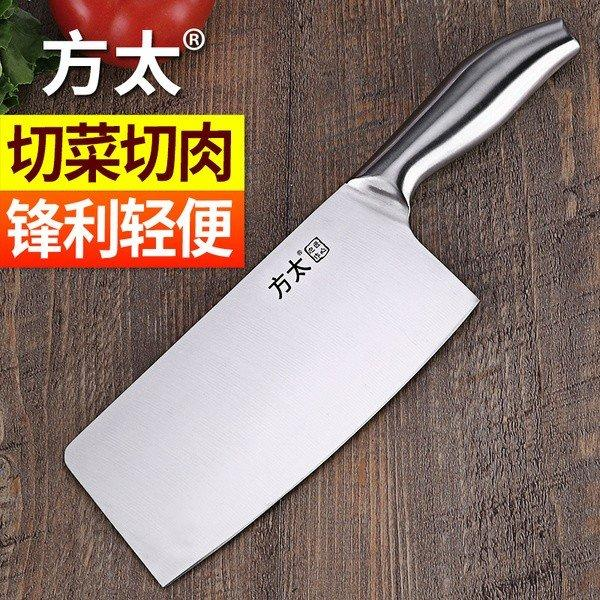knief: (83, 13, 573, 564)
